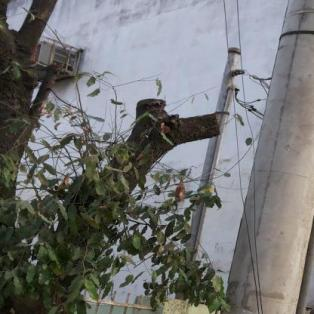Poste: (165, 0, 314, 314)
